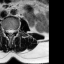CCS_normal: (9, 26, 11, 37)
LFS_normal: (14, 26, 16, 35)
LLS_normal: (11, 26, 14, 35)
RFS_normal: (4, 26, 7, 34)
RLS_normal: (7, 27, 9, 35)
